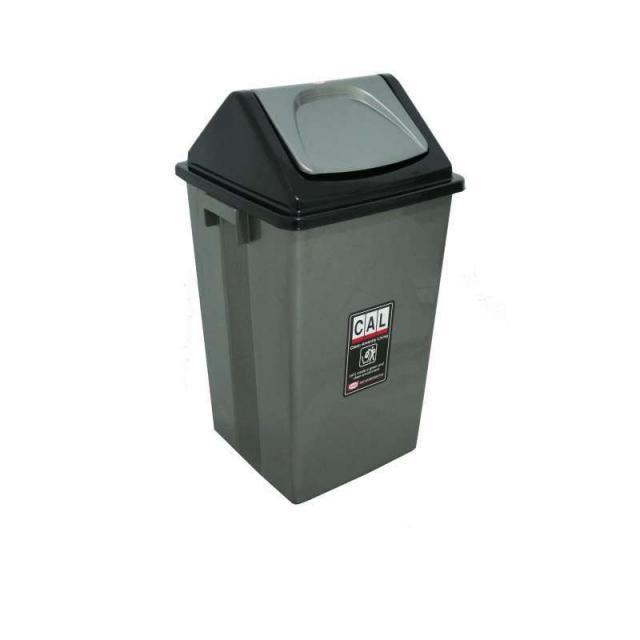Dumpster: (174, 72, 471, 510)
